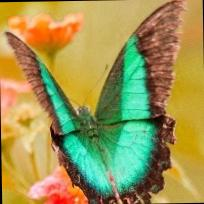butterfly: (4, 0, 183, 204)
